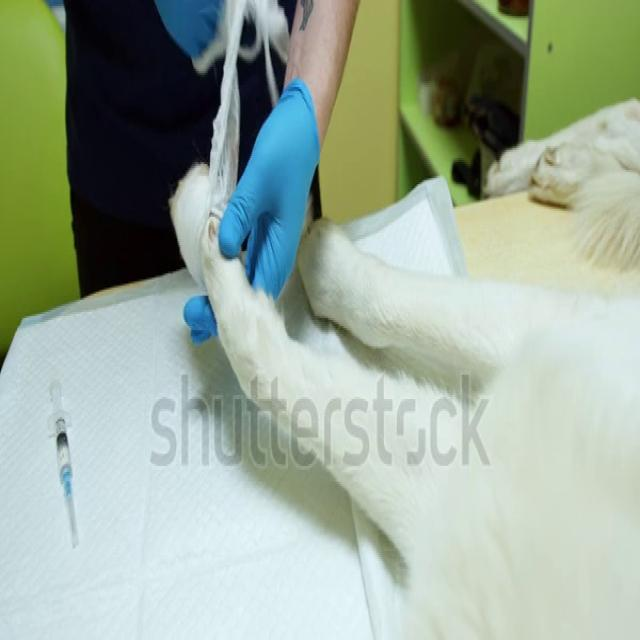injured-animals: (147, 26, 640, 640)
